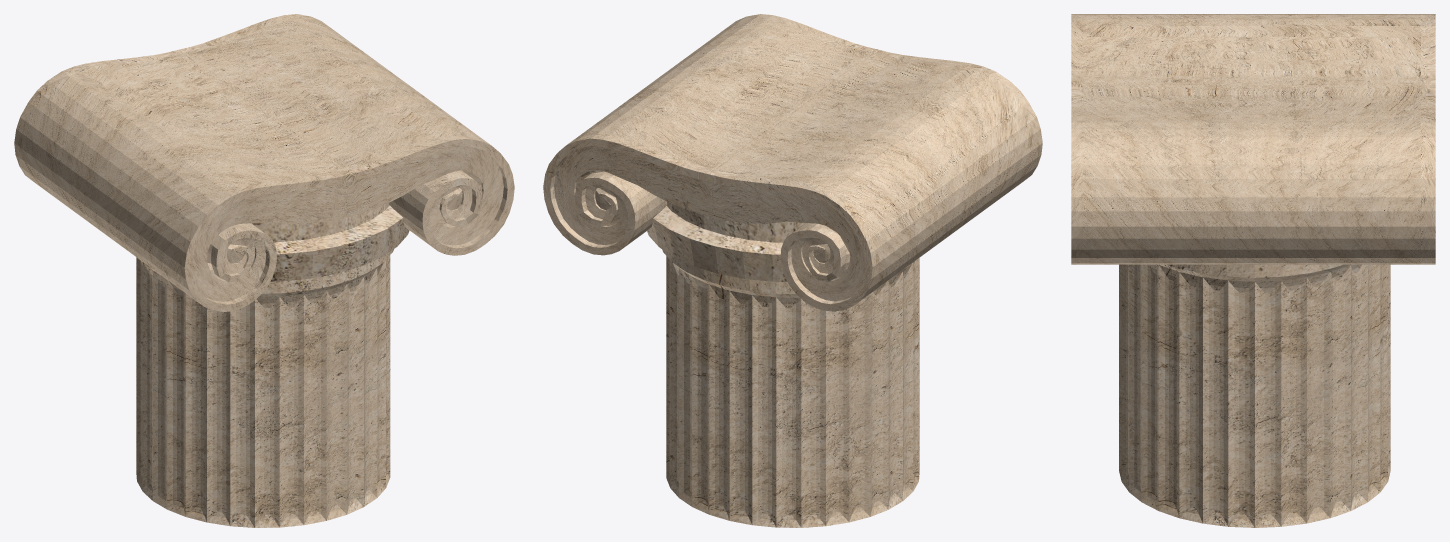
File: capitelbig.fbx
3 renders of one model, left to right at view 1: azimuth 30°, elevation 25°; view 2: azimuth 150°, elevation 25°; view 3: azimuth 270°, elevation 25°, orthographic. The views are drawn at different scales.
Visible parts, largest first — view 1: Plane, Cylinder; view 2: Plane, Cylinder; view 3: Plane, Cylinder.
Part boxes in pixels (x1,y1,x2,y2): Plane: (14,14,514,312); Cylinder: (136,202,409,527); Plane: (543,14,1042,311); Cylinder: (647,202,919,527); Plane: (1071,14,1435,264); Cylinder: (1119,264,1390,527).
Size of the model in its own units: 791 by 851 by 707.
